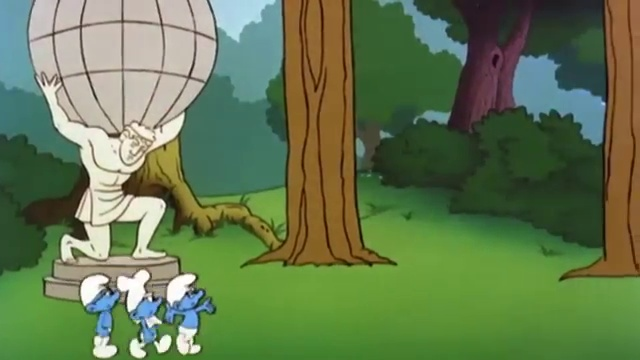smurf: (114, 269, 171, 357), (162, 273, 216, 358), (75, 270, 124, 360)
